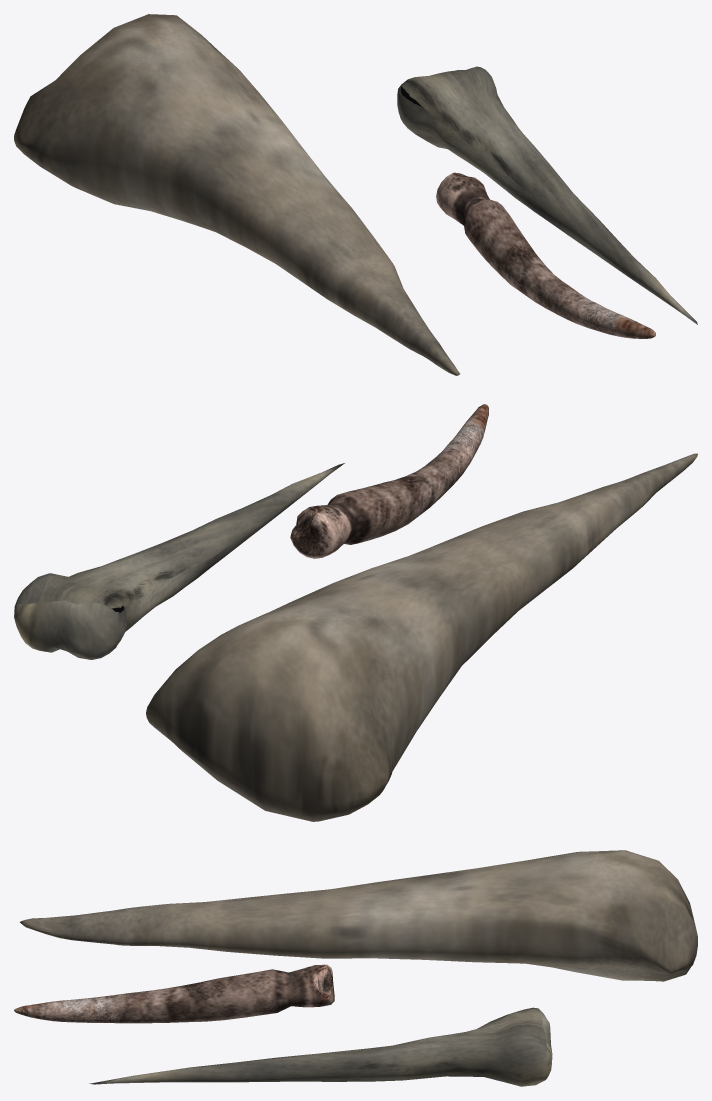
Rendered from B49_SmallBones.FBX.
3 views of the same model, one above another, from view 1: azimuth 30°, elevation 25°; view 2: azimuth 150°, elevation 25°; view 3: azimuth 270°, elevation 25° (orthographic). The views are drawn at different scales.
Visible parts, largest first — view 1: punzon_low_unwrap; view 2: punzon_low_unwrap; view 3: punzon_low_unwrap.
Boxes of the visible parts, box(x1,y1,x2,y2) form: punzon_low_unwrap: box(14, 14, 697, 375); punzon_low_unwrap: box(14, 404, 697, 821); punzon_low_unwrap: box(14, 850, 697, 1086).
Size of the model in its own units: 4.72 by 1.71 by 7.92.
3 materials, 3 textured.
